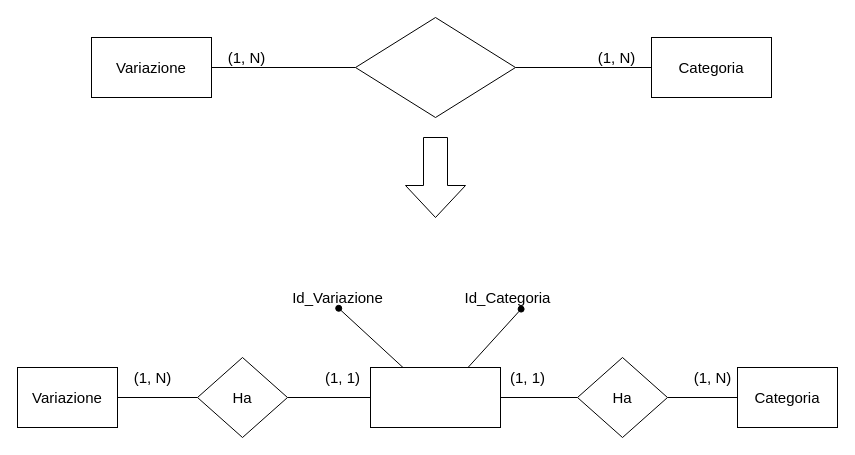
The diagram is 855 pixels wide and 455 high, and some of its shapes have lost their labels. The shapes that lost their labels are listed below. From the top down, each one's box as (x1, y1, x2, y2) in pixels, then its label:
(354, 16, 516, 118): Non so l'italiano Caratterizza
(370, 366, 500, 428): Combo_Var_Cat
